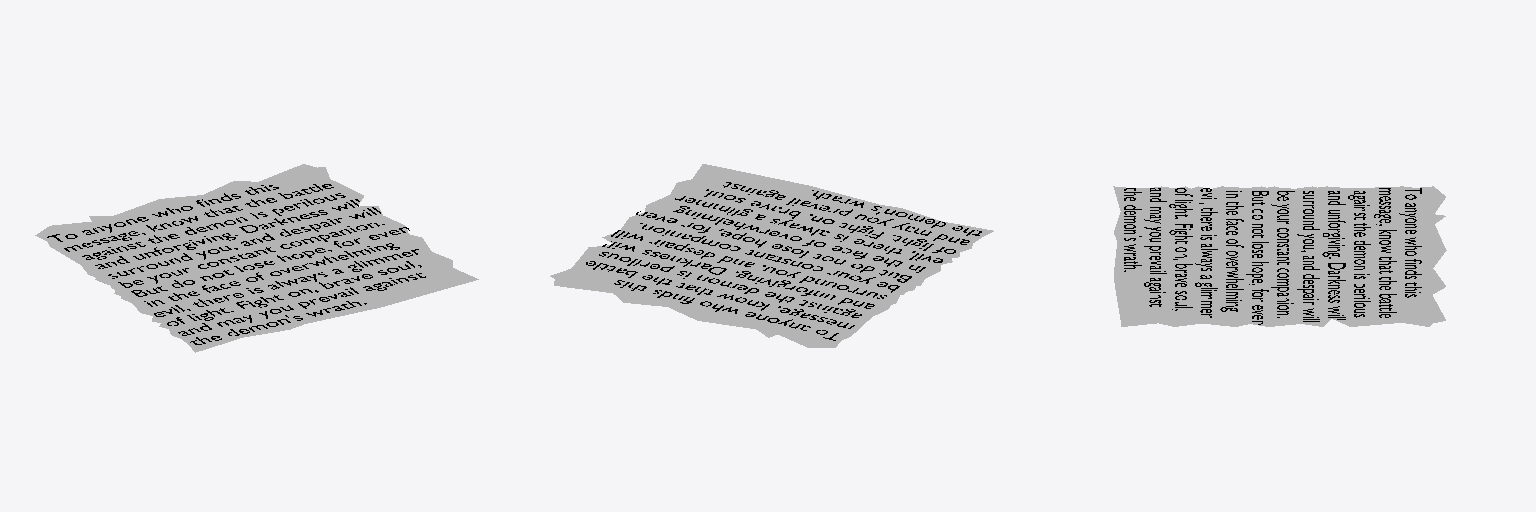
File: Note_4_goed.obj
3 views of the same model, side by side, from view 1: azimuth 30°, elevation 25°; view 2: azimuth 150°, elevation 25°; view 3: azimuth 270°, elevation 25° (orthographic).
Visible parts, largest first — view 1: Plane.003, Text.003; view 2: Plane.003, Text.003; view 3: Plane.003, Text.003.
Boxes of the visible parts, x1=… form: Plane.003: x1=35, y1=164, x2=478, y2=352; Text.003: x1=47, y1=184, x2=425, y2=344; Plane.003: x1=550, y1=164, x2=993, y2=347; Text.003: x1=586, y1=182, x2=981, y2=340; Plane.003: x1=1113, y1=186, x2=1446, y2=326; Text.003: x1=1124, y1=188, x2=1421, y2=324.
Bounding box in the file's own units: 2 × 0.01 × 2.